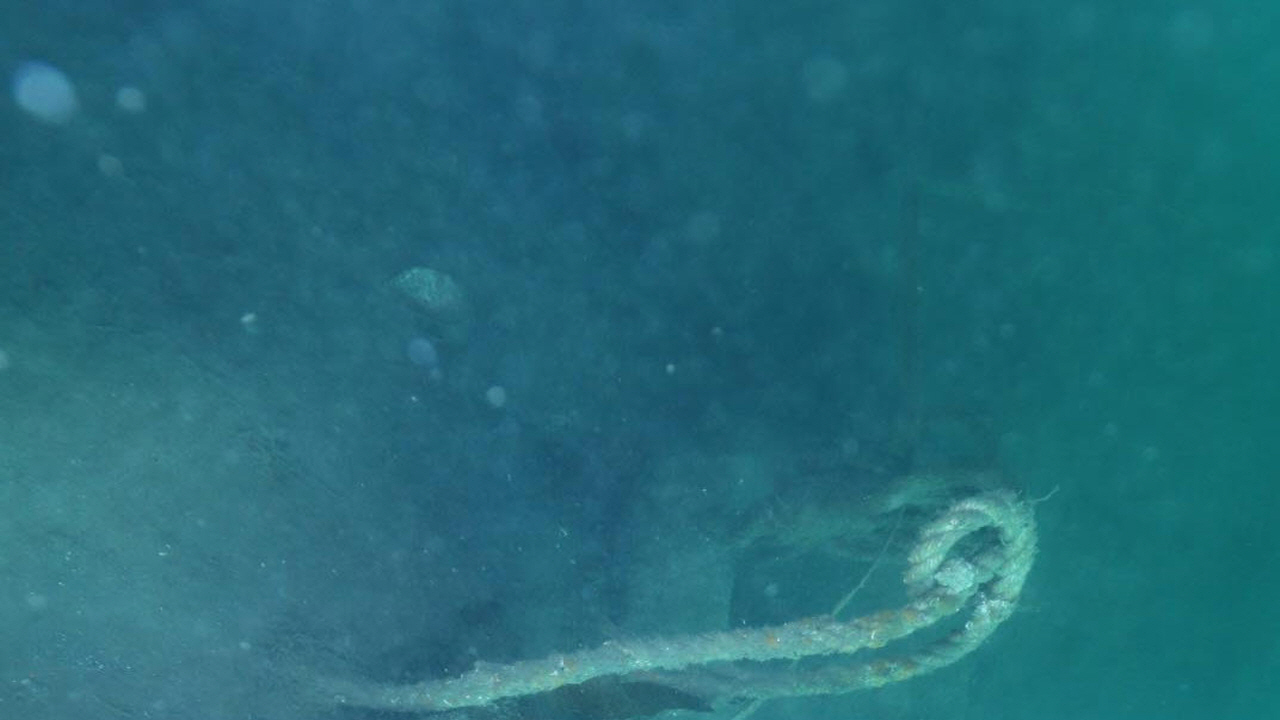bundle of ropes: (310, 484, 1045, 720)
